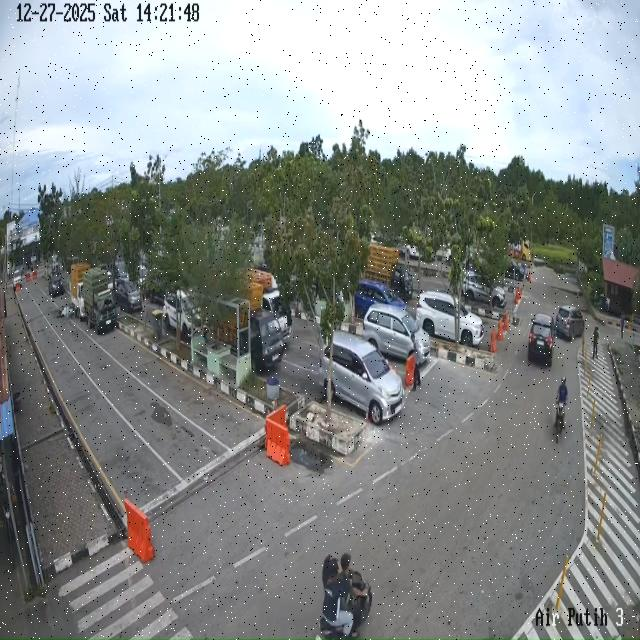Golongan IVA: (320, 332, 405, 426), (362, 304, 430, 366), (416, 290, 484, 348), (354, 279, 406, 319), (463, 272, 506, 308), (528, 313, 555, 366), (555, 305, 585, 341), (114, 279, 142, 313), (505, 259, 527, 281), (48, 272, 65, 298)
Golongan IVB: (82, 268, 116, 334), (68, 263, 90, 321)
